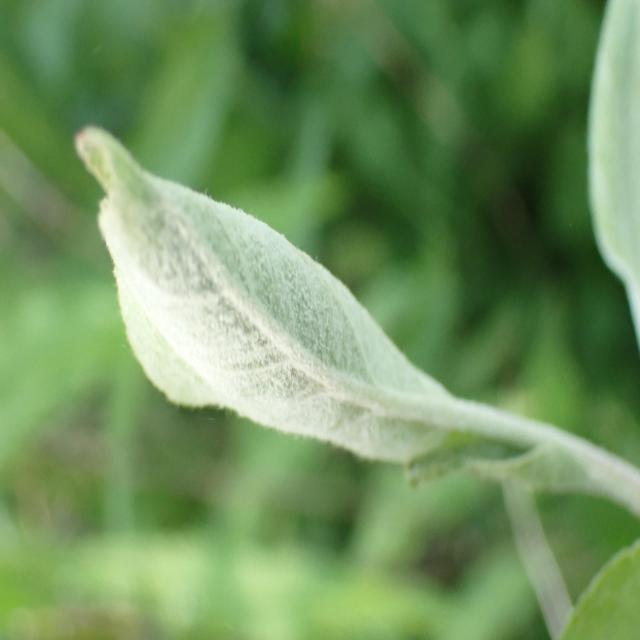Powdery_mildew: (63, 80, 475, 502), (555, 0, 639, 328)
